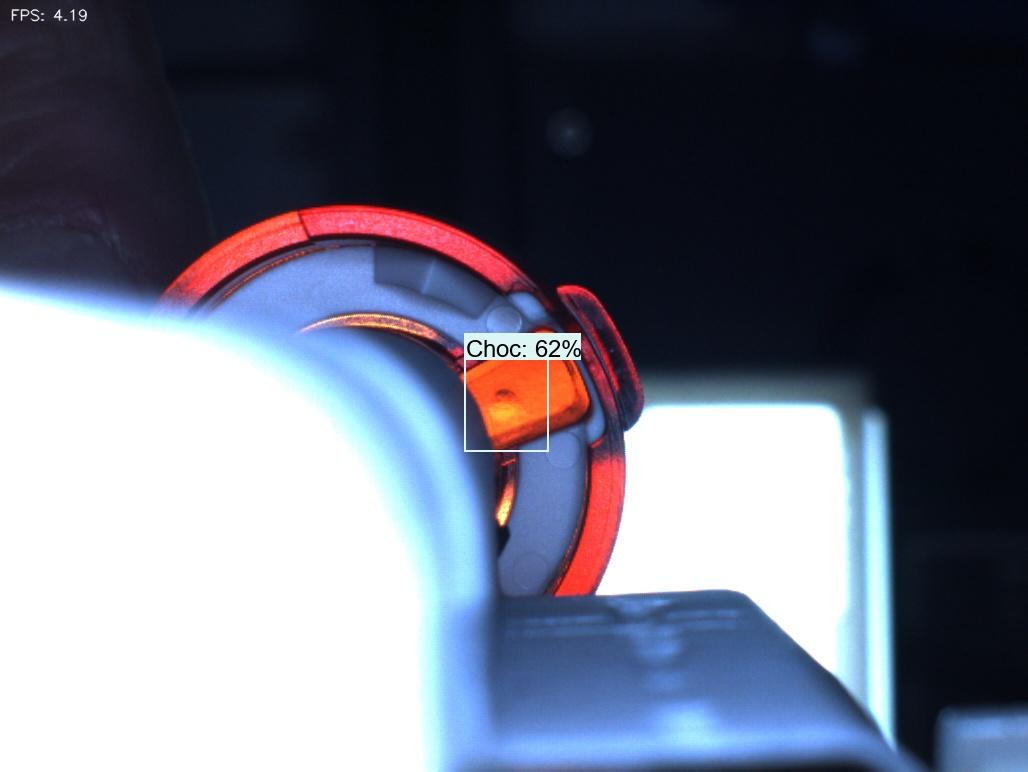Retassure: (471, 370, 544, 446)
